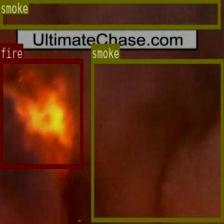fire: (0, 58, 82, 168)
smoke: (91, 59, 223, 221), (0, 0, 220, 28)
